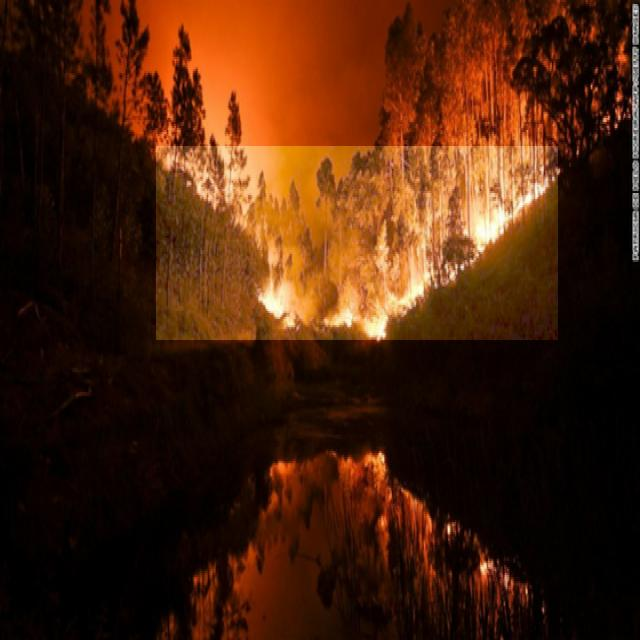Fire: (156, 147, 558, 340)
